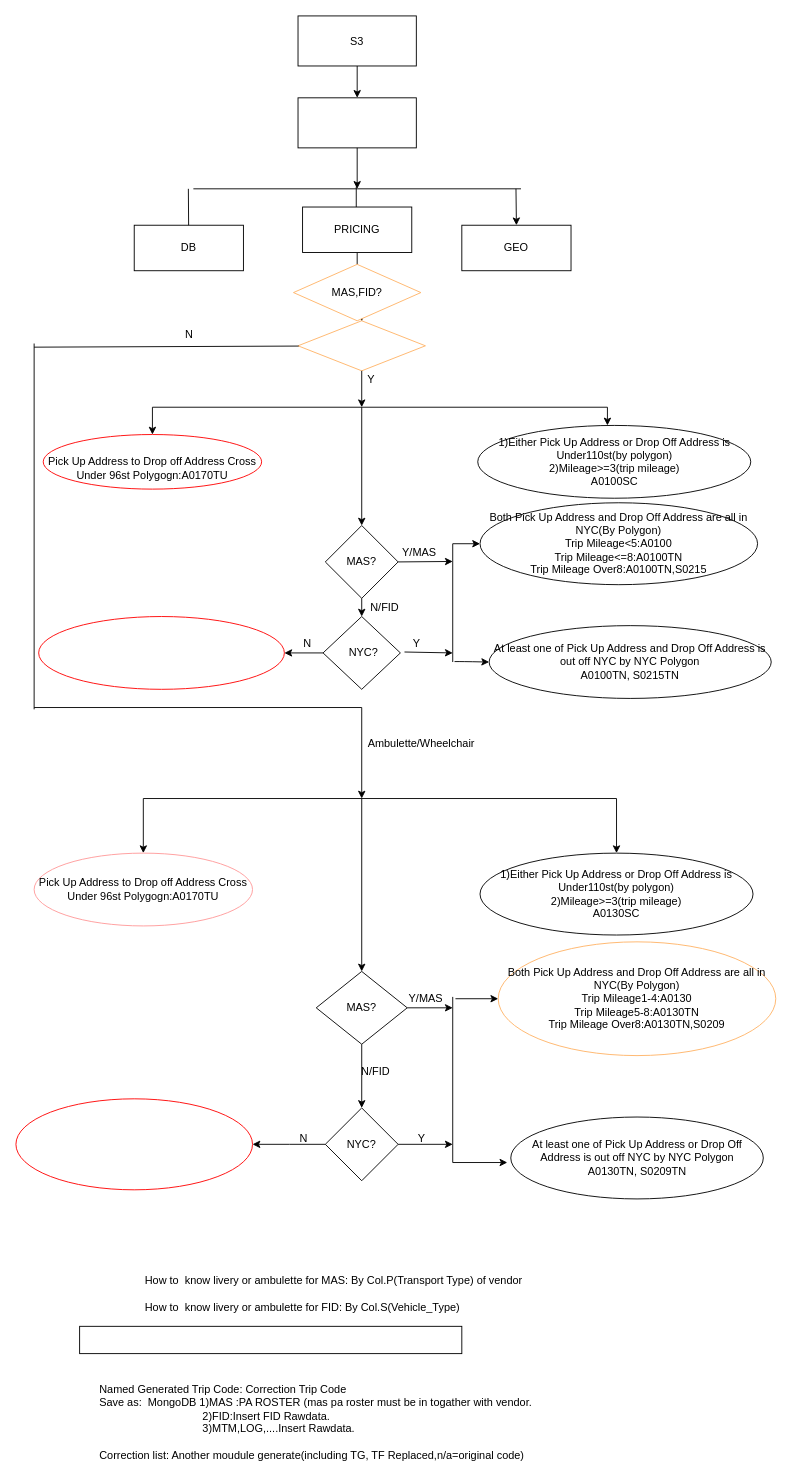
Some shapes in this 792 by 1479 pixel diagram are drawn without their labels. Each missing label, with the box of its shape:
Both Pick Up Address and Drop Off Address are not in NYC, A0100 and S0215: (38, 616, 284, 689)
Both Pick Up Address and Drop Off Address are not in NYC: A0130 ,S0209: (15, 1098, 253, 1190)
FPS: (297, 97, 416, 148)
How to know NYC for FID :By "NYC": Y or N in DB: (79, 1325, 462, 1354)
livery?: (297, 320, 425, 371)
